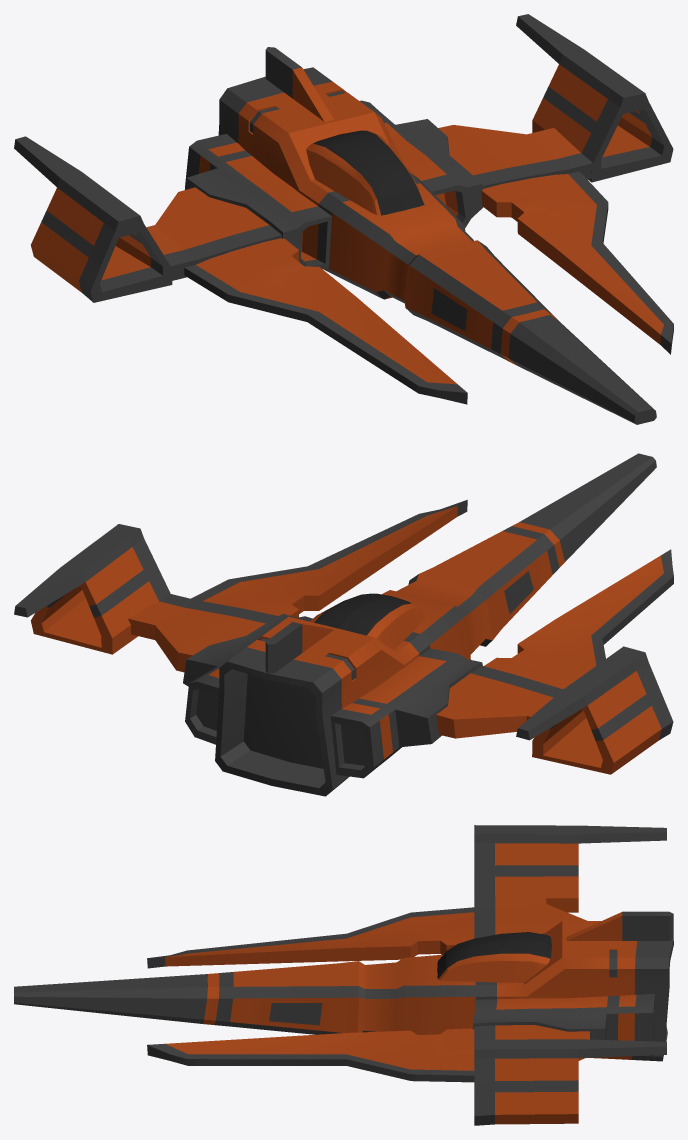
Rendered from Spaceship Rae The Red Panda.glb.
3 views of the same model, one above another, from view 1: azimuth 30°, elevation 25°; view 2: azimuth 150°, elevation 25°; view 3: azimuth 270°, elevation 25° (orthographic). The views are drawn at different scales.
Parts seen in each view (by area): view 1: Spaceship_RaeTheRedPanda; view 2: Spaceship_RaeTheRedPanda; view 3: Spaceship_RaeTheRedPanda.
Part boxes in pixels (left/top/right/bottom): Spaceship_RaeTheRedPanda: left=14, top=14, right=673, bottom=424; Spaceship_RaeTheRedPanda: left=14, top=453, right=673, bottom=796; Spaceship_RaeTheRedPanda: left=14, top=825, right=673, bottom=1125.
Bounding box in the file's own units: 9.95 × 2.35 × 11.17.
Materials: 1 (1 with a texture image).
